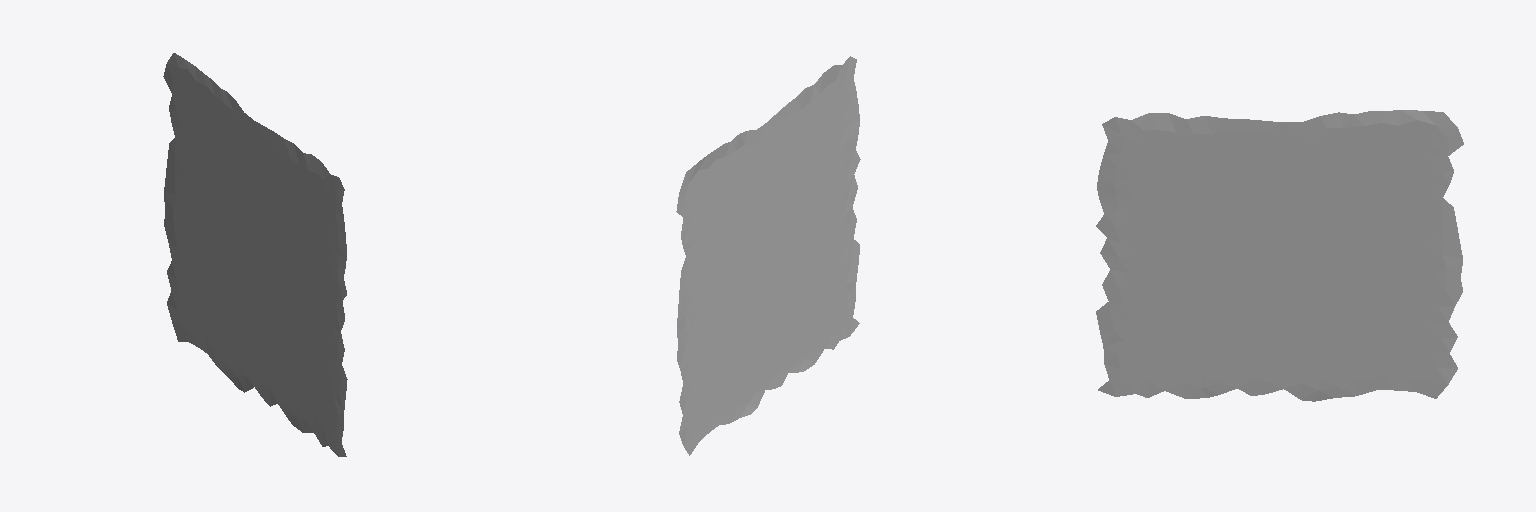
File: x_maximas.obj
3 renders of one model, left to right at view 1: azimuth 30°, elevation 25°; view 2: azimuth 150°, elevation 25°; view 3: azimuth 270°, elevation 25°, orthographic.
Size of the model in its own units: 0.0984 by 26.15 by 29.94.